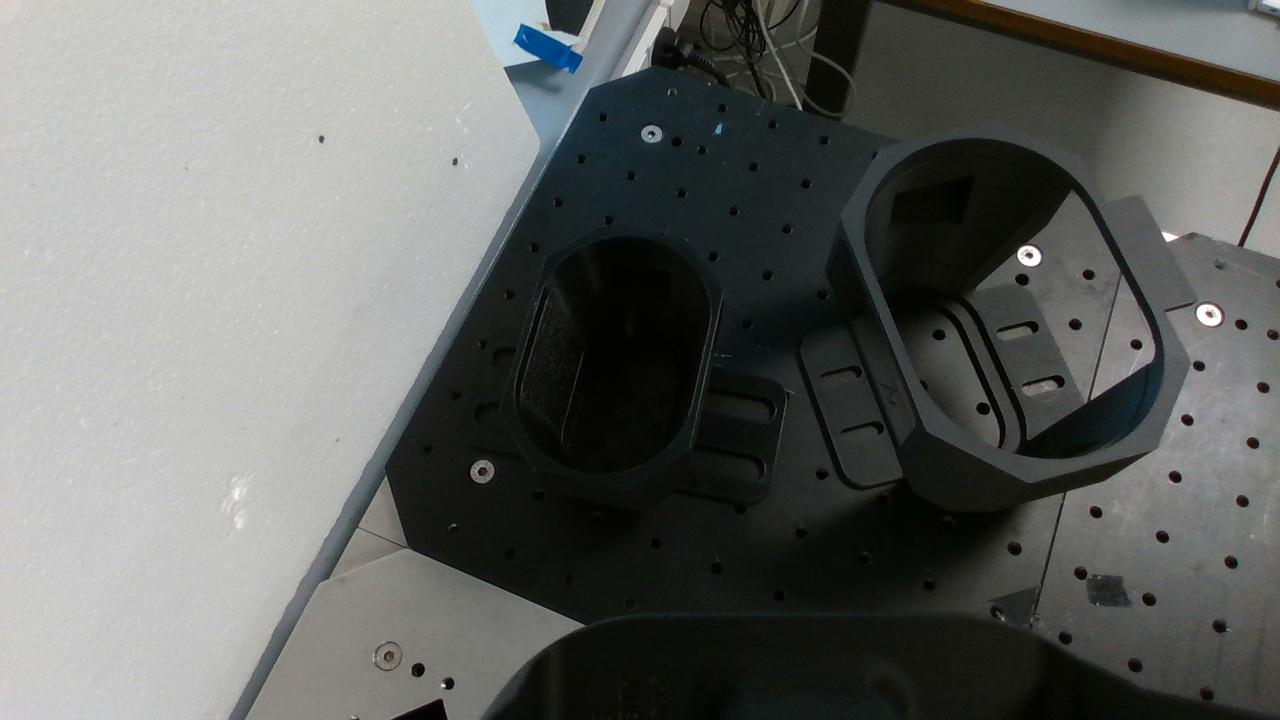big_interface: (842, 119, 1191, 483)
small_interface: (495, 226, 726, 492)
